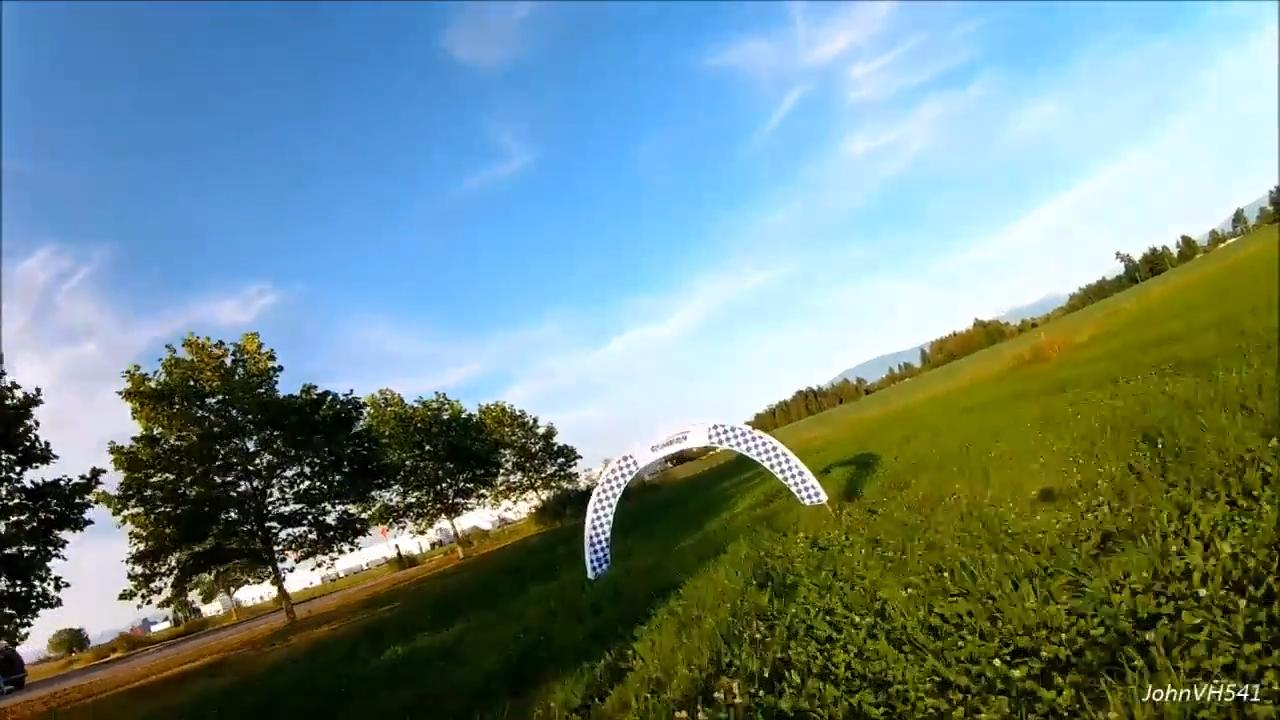gate: (577, 421, 831, 582)
